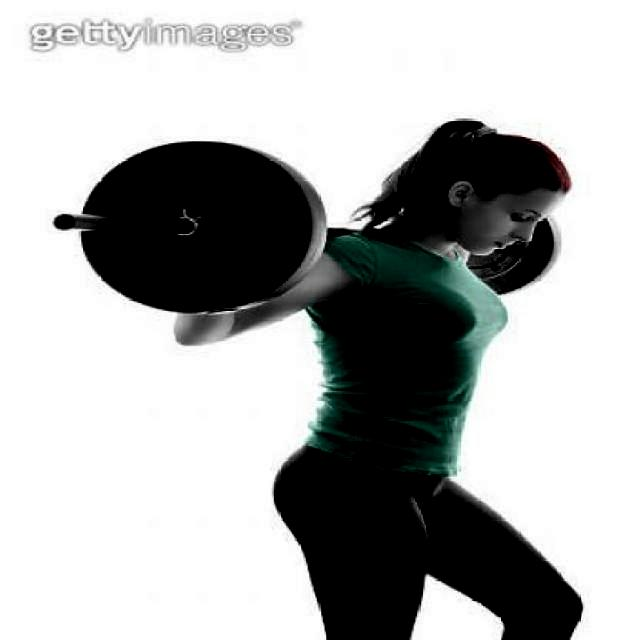barbell: (74, 136, 340, 322)
